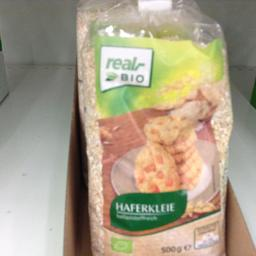cereal: (73, 0, 232, 253)
